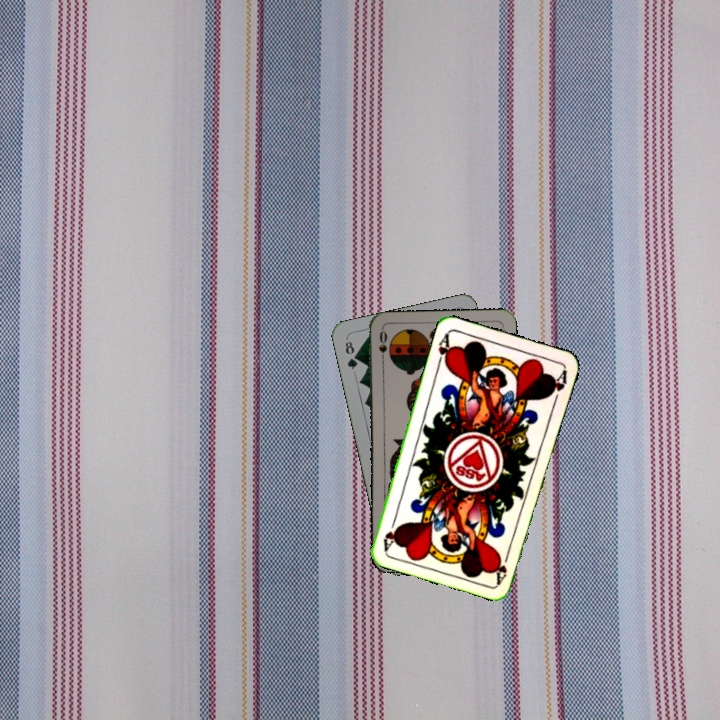G8: (341, 337, 360, 372)
HA: (433, 329, 455, 370), (491, 545, 513, 586)
SO: (375, 327, 389, 367)
